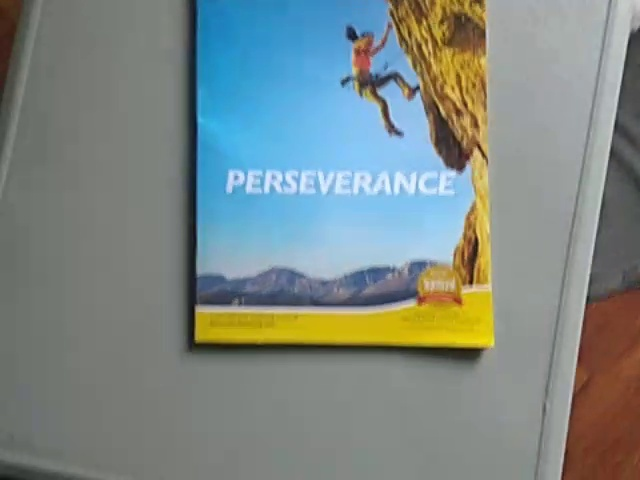Book: (180, 7, 518, 374)
